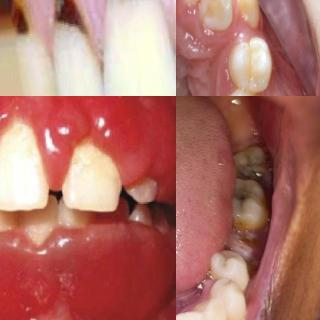Gum Swelling: (0, 96, 176, 202), (0, 220, 176, 320)
cavities: (227, 180, 270, 220), (234, 148, 272, 186), (7, 0, 30, 34), (52, 0, 81, 26)
maligned: (227, 36, 282, 90), (204, 246, 256, 286), (210, 277, 250, 320), (196, 0, 244, 28), (226, 0, 264, 31), (176, 311, 205, 320)
plaque: (0, 118, 54, 208), (64, 138, 124, 206), (126, 174, 162, 203)
